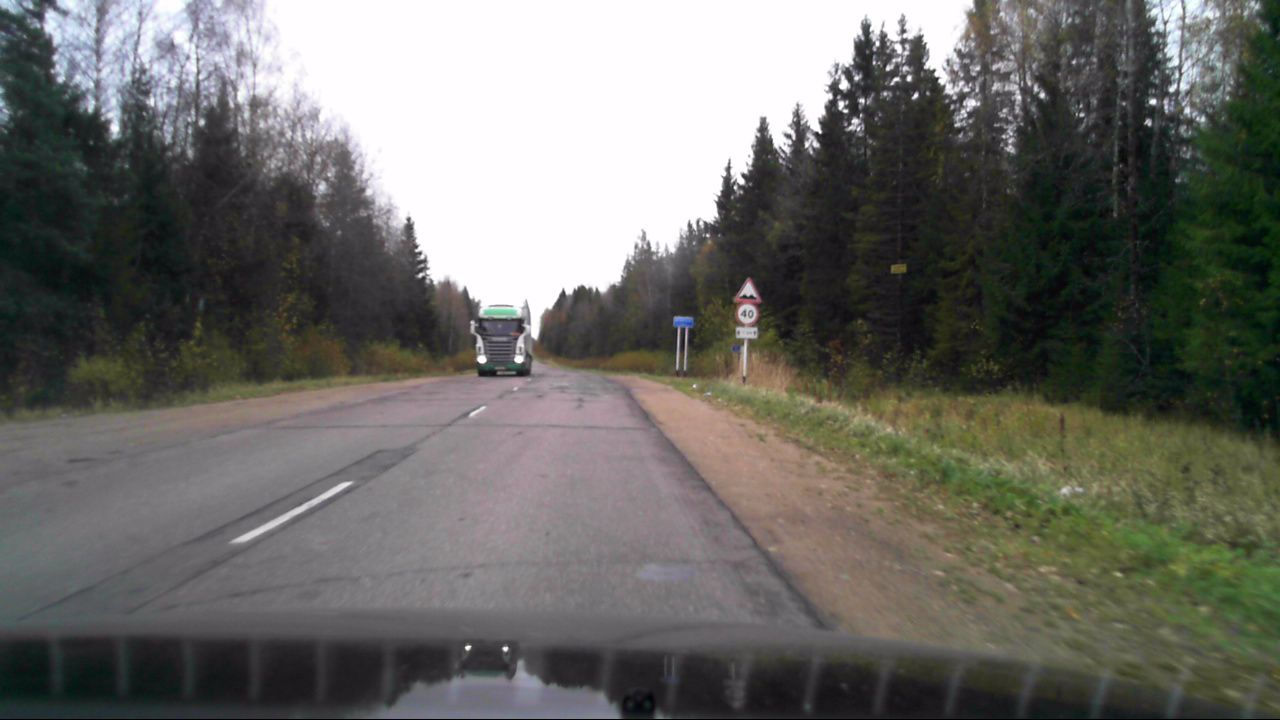speed_warning_40: (734, 303, 759, 325)
